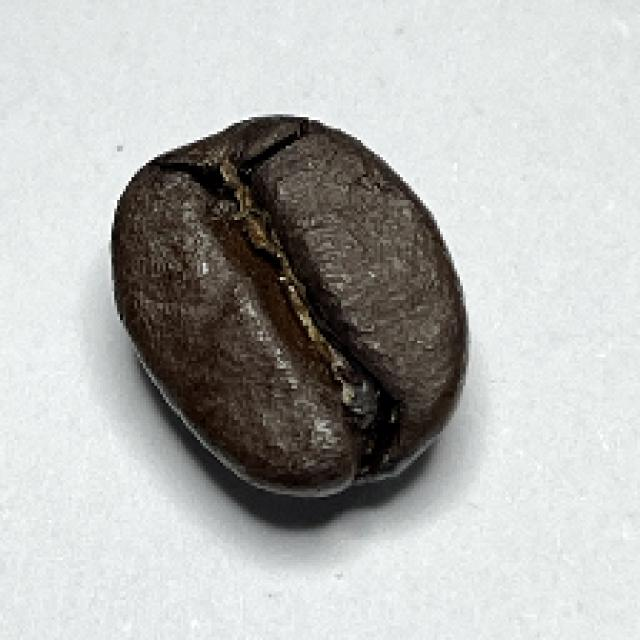bean: (103, 110, 474, 500)
